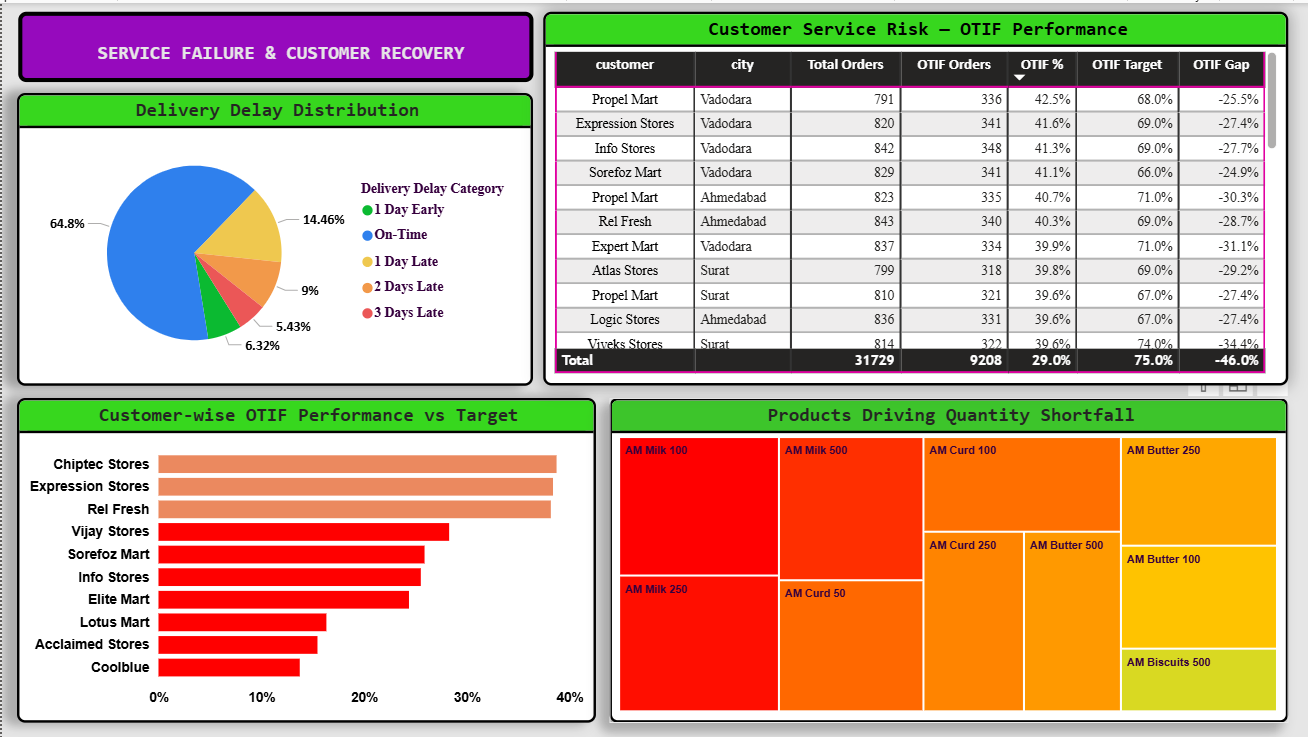

The dashboard page shown, as its layout file describes it:
{"tool":"powerbi","page":{"name":"Customer Recovery Analysis","canvas":[1280,720],"ordinal":1},"visuals":[{"type":"barChart","title":"Customer-wise OTIF Performance vs Target","fields":{"Category":["dim_customers.customer_name"],"Y":["_Measures.OTIF %"]},"box":[14.7,386.4,566.2,317.9],"z":0},{"type":"treemap","title":"Products Driving Quantity Shortfall","fields":{"Group":["dim_products.product_name"],"Values":["_Measures.Quantity Shortfall"]},"box":[594.3,386.4,664,317.9],"z":1000},{"type":"pieChart","title":"Delivery Delay Distribution","fields":{"Category":["fact_order_lines.Delivery Delay Category"],"Y":["CountNonNull(fact_order_lines.Delivery Delay Days)"]},"box":[14.7,88,505,286.1],"z":2000},{"type":"tableEx","title":"Customer Service Risk — OTIF Performance","fields":{"Values":["dim_customers.customer_name","dim_customers.city","_Measures.Total Orders","_Measures.OTIF Orders","_Measures.OTIF %","_Measures.OTIF Target","_Measures.OTIF Gap"]},"box":[529.5,8.6,728.8,365.6],"z":3000},{"type":"textbox","box":[15.9,8.6,503.8,68.5],"z":4000}]}

Visuals, with their boxes in screenshot pixels (x1, y1, x2, y2), scaled from the page's 1280x720 canvas onto the 1308x737 screenshot:
"Customer-wise OTIF Performance vs Target" barChart: pyautogui.locateOnScreen(15, 396, 594, 721)
"Products Driving Quantity Shortfall" treemap: pyautogui.locateOnScreen(607, 396, 1286, 721)
"Delivery Delay Distribution" pieChart: pyautogui.locateOnScreen(15, 90, 531, 383)
"Customer Service Risk — OTIF Performance" tableEx: pyautogui.locateOnScreen(541, 9, 1286, 383)
textbox: pyautogui.locateOnScreen(16, 9, 531, 79)
